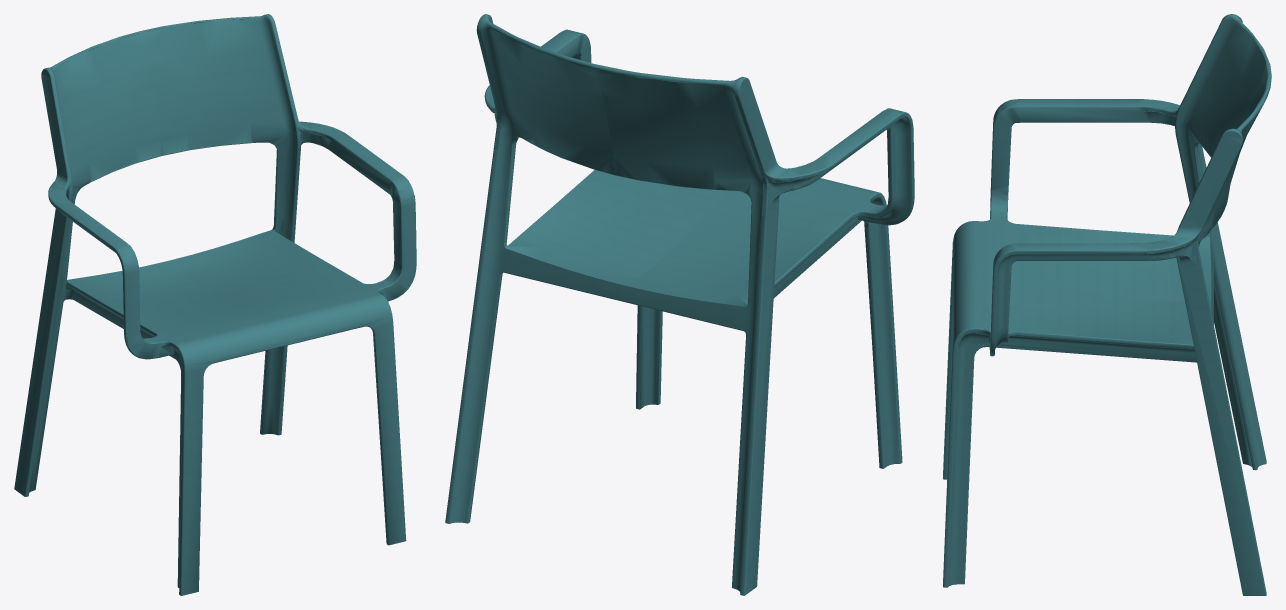
File: toriru-armchair_woodblue.fbx
3 views of the same model, side by side, from view 1: azimuth 30°, elevation 25°; view 2: azimuth 150°, elevation 25°; view 3: azimuth 270°, elevation 25° (orthographic). The views are drawn at different scales.
Visible parts, largest first — view 1: toriru-armchair_tealblue; view 2: toriru-armchair_tealblue; view 3: toriru-armchair_tealblue.
Boxes of the visible parts, box(x1,y1,x2,y2) form: toriru-armchair_tealblue: box(14, 14, 416, 595); toriru-armchair_tealblue: box(445, 14, 914, 595); toriru-armchair_tealblue: box(943, 14, 1271, 595).
Size of the model in its own units: 58.5 by 82.1 by 53.5.
Materials: 1 (1 with a texture image).
